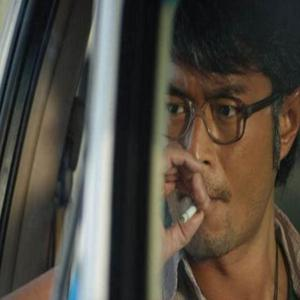cigarette: (177, 204, 199, 226)
